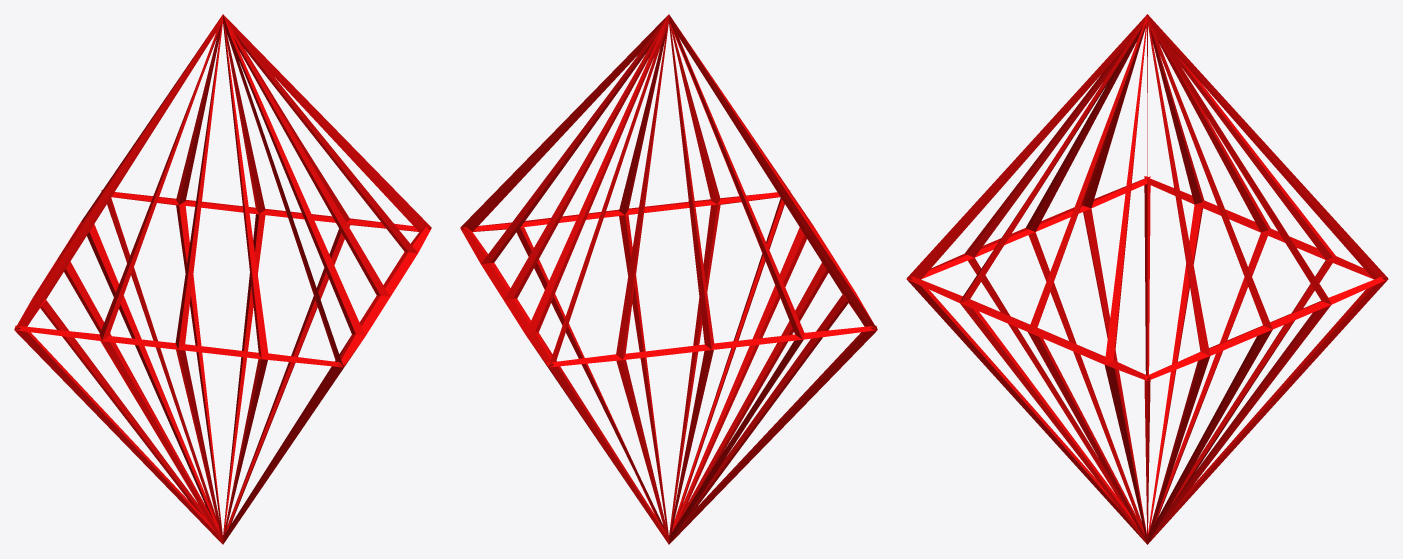
File: lanter.obj
3 views of the same model, side by side, from view 1: azimuth 30°, elevation 25°; view 2: azimuth 150°, elevation 25°; view 3: azimuth 270°, elevation 25° (orthographic).
Parts seen in each view (by area): view 1: Cone; view 2: Cone; view 3: Cone.
Boxes of the visible parts, x1,y1,x2,y2 form: Cone: [14, 14, 431, 544]; Cone: [460, 14, 877, 544]; Cone: [906, 14, 1388, 544].
Bounding box in the file's own units: 8.66 × 10.53 × 8.66.
Materials: 1 (1 with a texture image).
